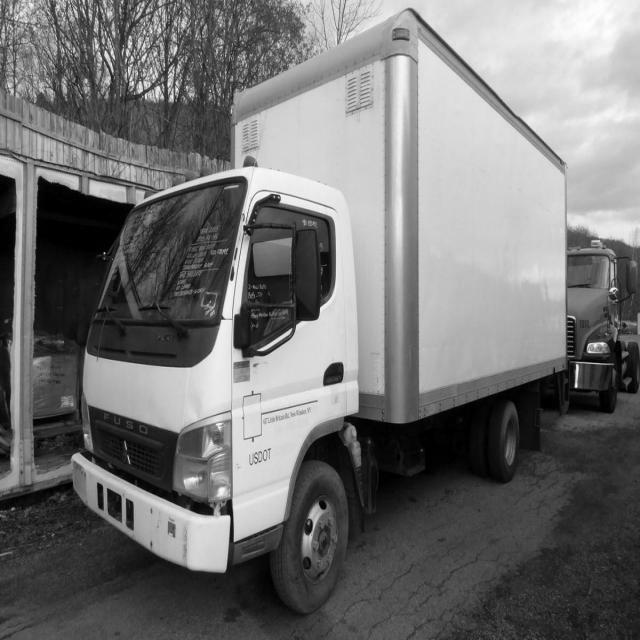truck: (66, 146, 381, 599)
